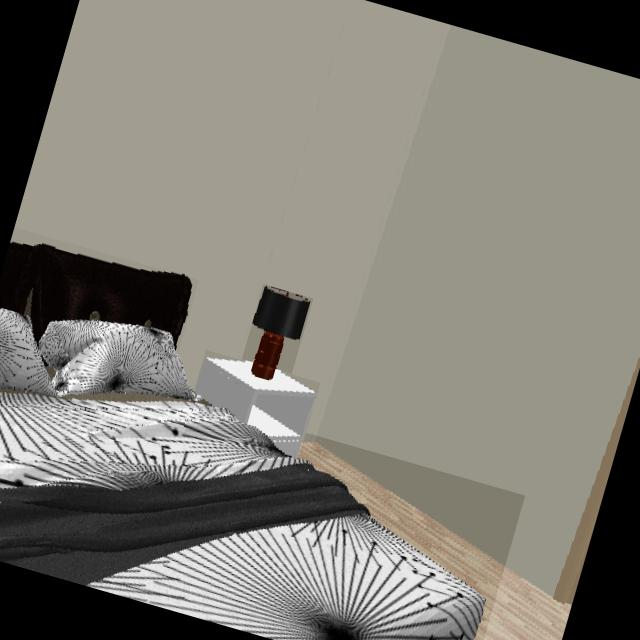bed: (0, 392, 485, 640), (0, 243, 192, 346)
lamp: (250, 287, 311, 381)
nighttable: (194, 358, 315, 458)
pillow: (37, 321, 193, 403), (0, 308, 59, 399)
